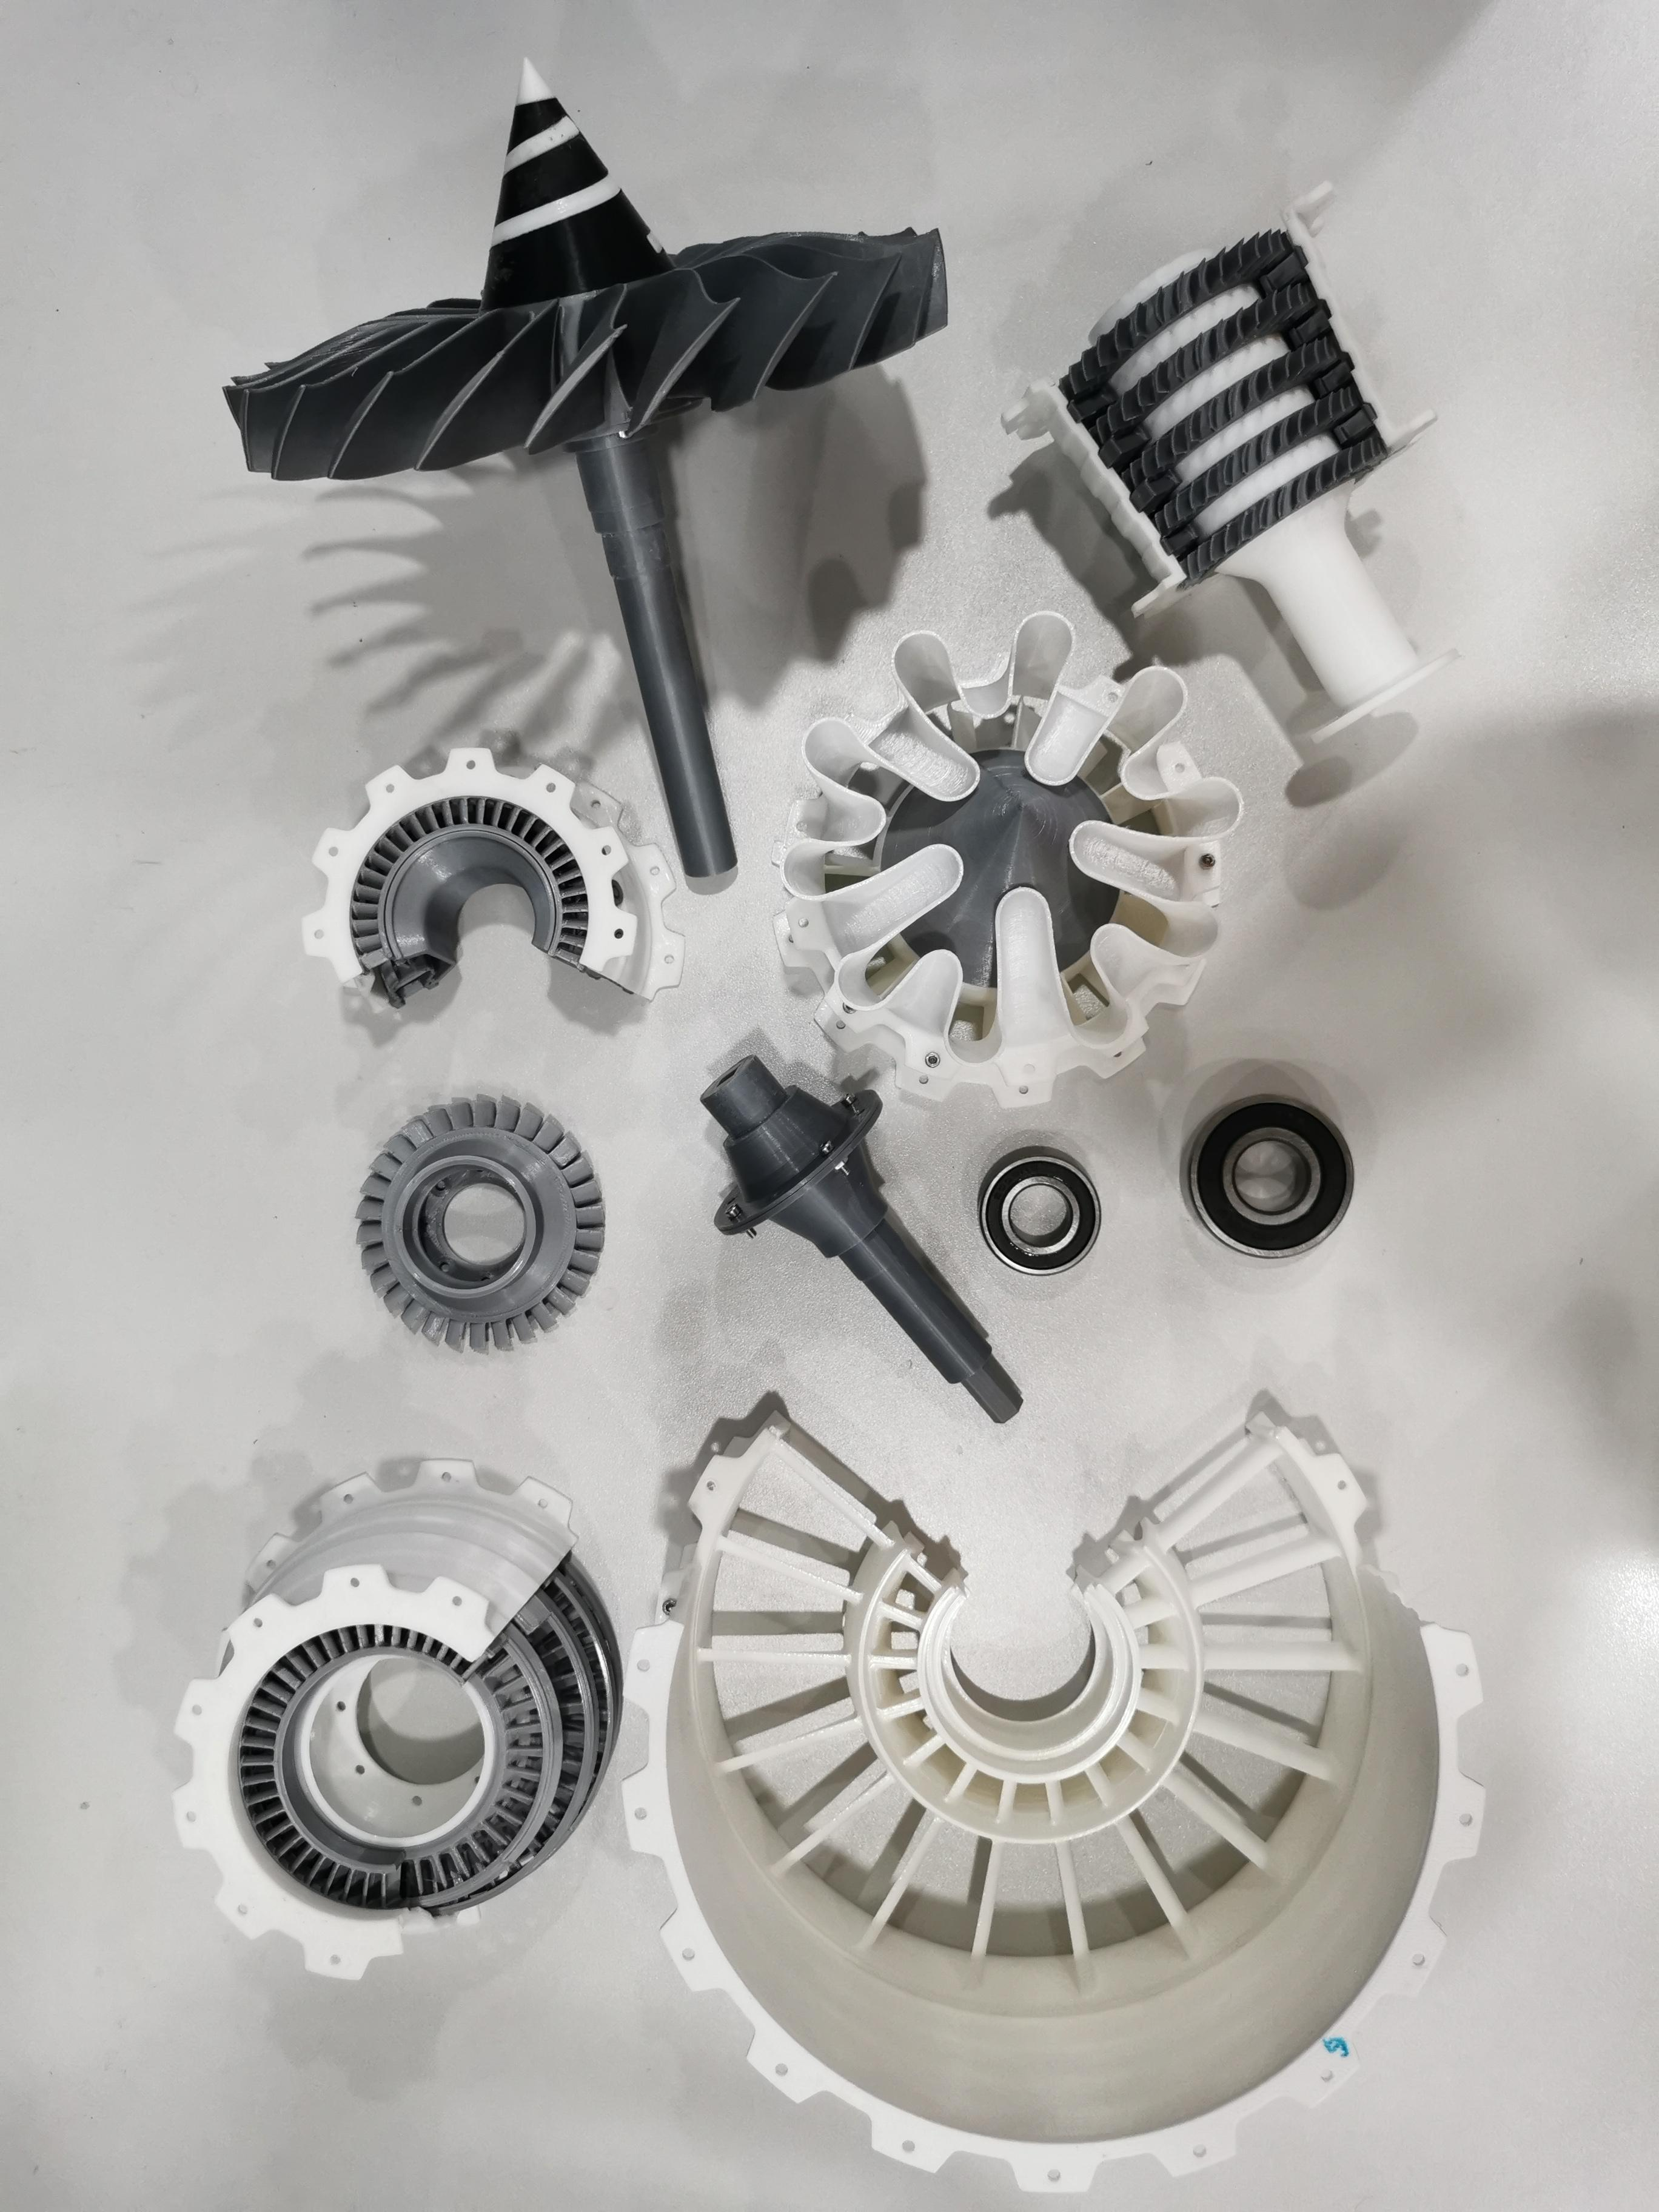Bearing-6003: (962, 1132, 1119, 1303)
Bearing-6204: (1162, 1064, 1371, 1299)
Combustion Section: (282, 723, 683, 1043)
Fan Casing and Support: (610, 1392, 1495, 2202)
Fan and Low Pressure Shaft: (209, 49, 971, 892)
HPT Section: (326, 1075, 627, 1371)
High Pressure Spool: (988, 169, 1502, 759)
LPT Section: (152, 1440, 629, 1996)
Low Pressure Spool: (673, 1040, 1032, 1439)
Nozzle Section: (760, 594, 1249, 1120)
